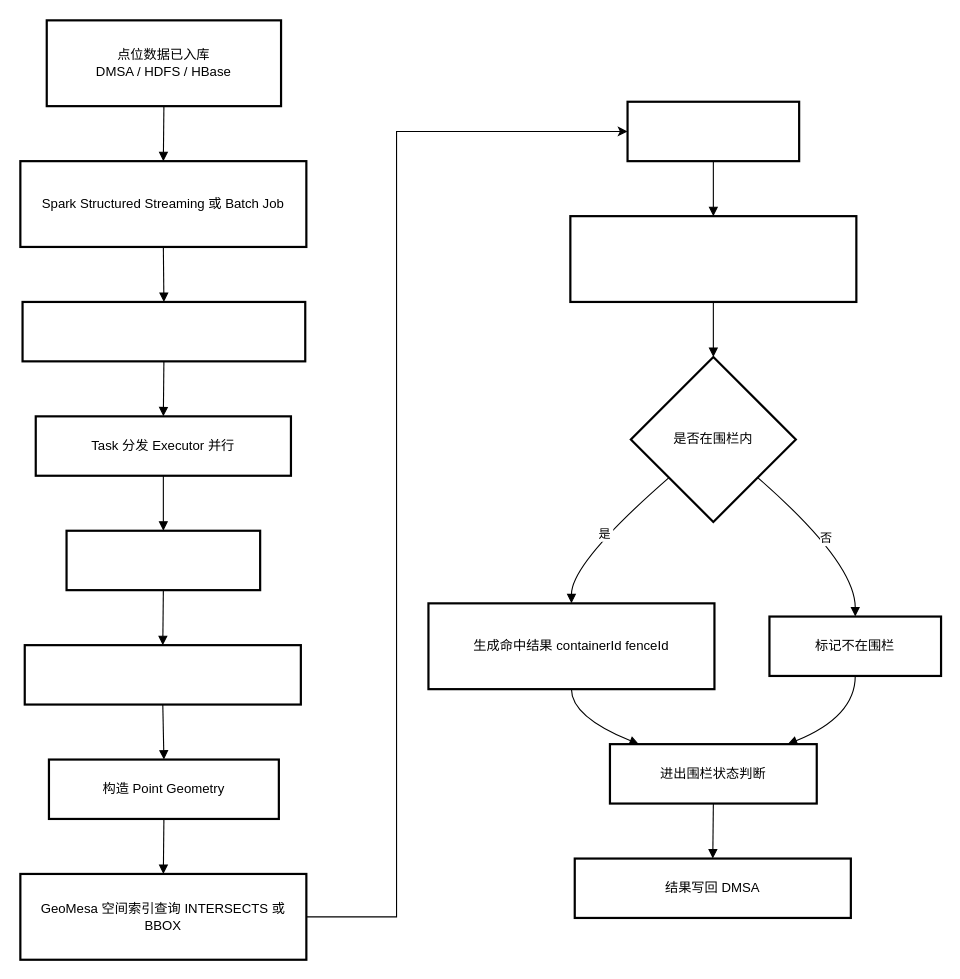
This 960x979 diagram has some shape labels left out. The centre of each missing label's shape, as x and y in pixels:
"foreachPartition" goes at point 163,560.
"JTS 精确几何判断 Point in Polygon" goes at point 713,258.
"候选围栏集合" goes at point 713,131.
"初始化 GeoMesa DataStore" goes at point 162,674.
"读取点位数据 按时间或批次" goes at point 163,331.
